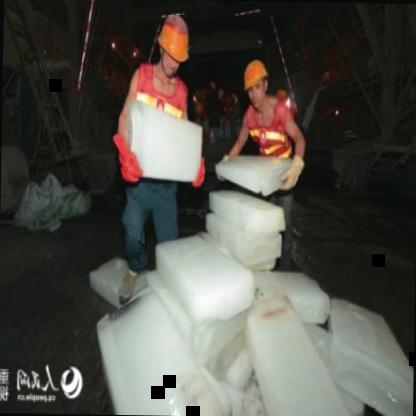helmet: (152, 11, 192, 76), (240, 56, 270, 112)
